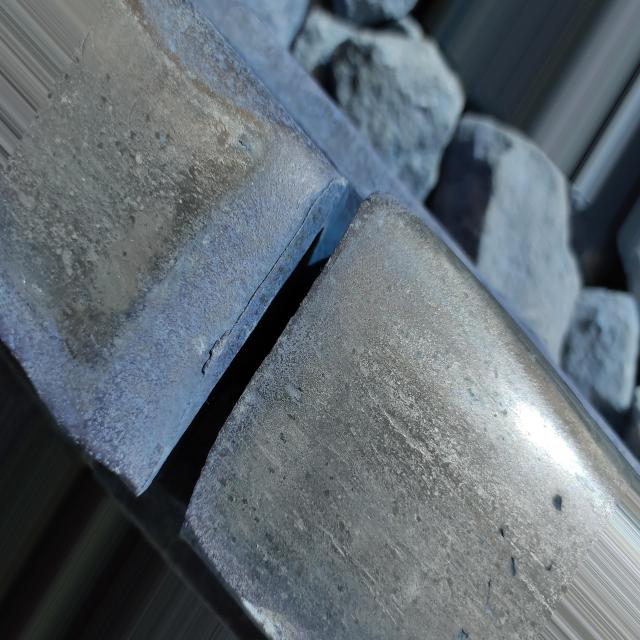crack: (87, 114, 402, 564)
